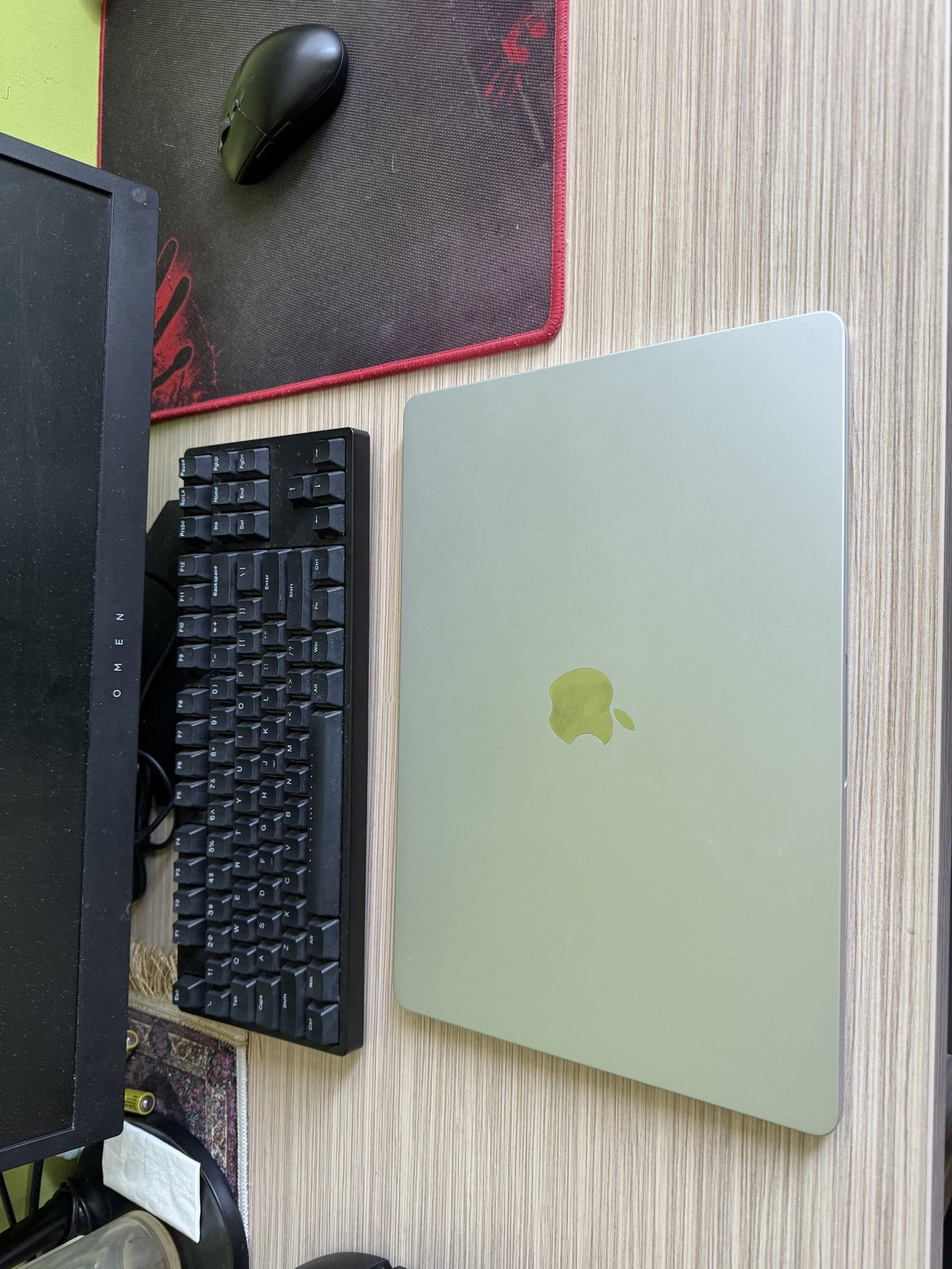laptop: (391, 309, 847, 1136)
